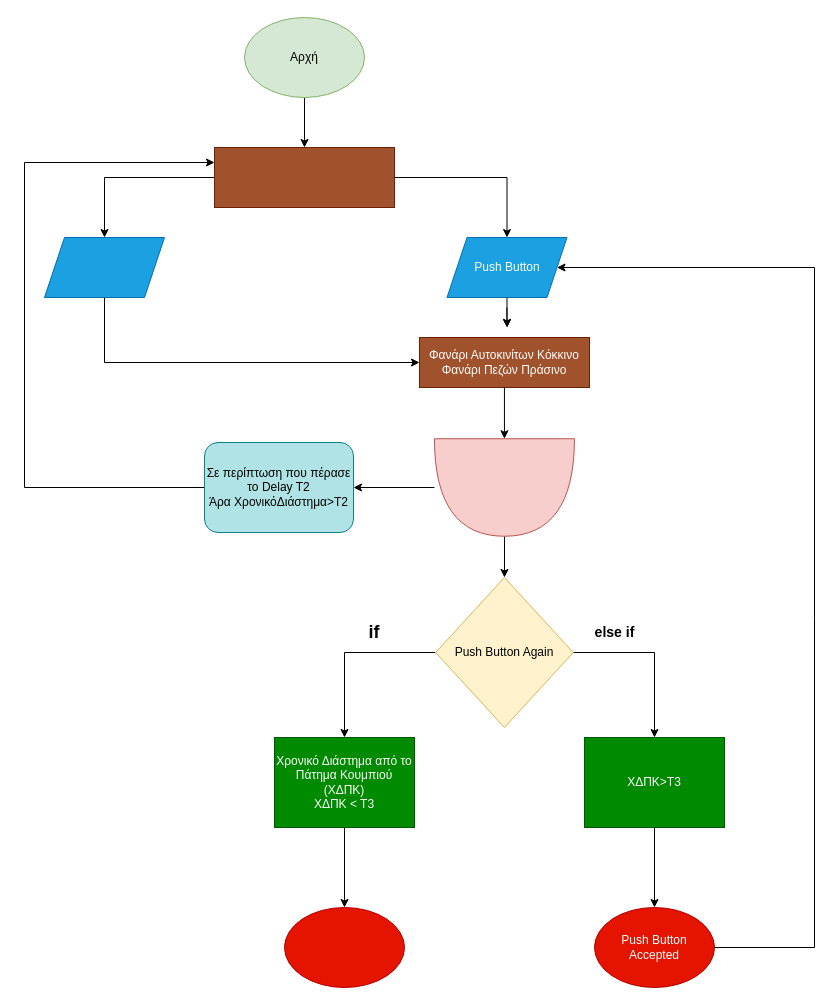
Image size: 840x1005. Some labels were removed from this diagram. Each missing label, with the centre of its shape:
"Delay T2" goes at (504,487).
"Push Button Cancelled" goes at (344,947).
"Τρένο Έρχεται (κάθε Τ1 χρονικό διάστημα)" goes at (104,267).
"Φανάρι Αυτοκινίτων Πράσινο Φανάρι Πεζών Κόκκινο" goes at (304,177).
